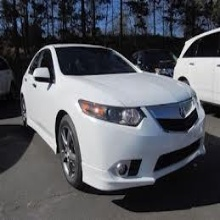no damage: (20, 42, 206, 193), (173, 29, 220, 103)
